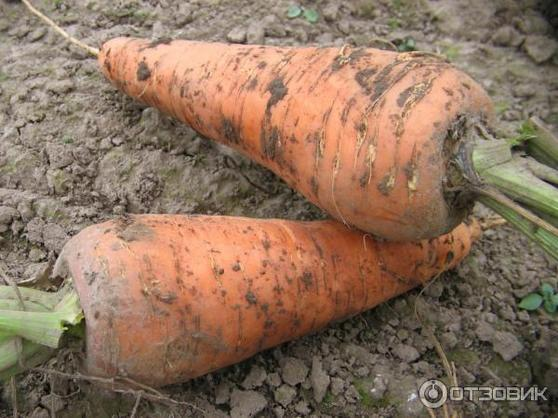carrot: (94, 25, 504, 236)
